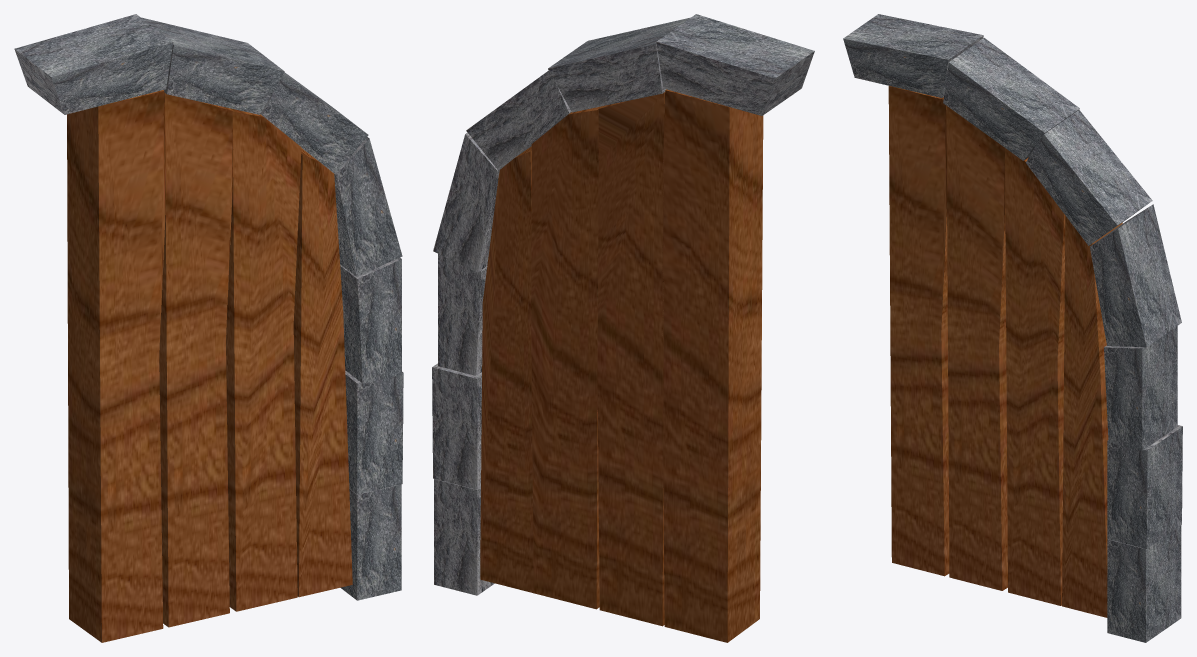
File: RightDoor.obj
3 renders of one model, left to right at view 1: azimuth 30°, elevation 25°; view 2: azimuth 150°, elevation 25°; view 3: azimuth 330°, elevation 25°, orthographic. The views are drawn at different scales.
Visible parts, largest first — view 1: CenterBoard.001_立方体.023, MidleBoards.001_立方体.012, MidleBoard.001_立方体.013, LeftBoard.001_立方体.022, LeftUnderBlockssssss.001_立方体.015, LeftUnderBlocksssss.001_立方体.016, LeftUnderBlockss.001_立方体.019, LeftUnderBlock.001_立方体.021, LeftUnderBlocksss.001_立方体.018, LeftUnderBlocks.001_立方体.020, LeftUnderBlockssss.001_立方体.017; view 2: CenterBoard.001_立方体.023, MidleBoards.001_立方体.012, MidleBoard.001_立方体.013, LeftBoard.001_立方体.022, LeftUnderBlockssssss.001_立方体.015, LeftUnderBlocksssss.001_立方体.016, LeftUnderBlocksss.001_立方体.018, LeftUnderBlock.001_立方体.021, LeftUnderBlocks.001_立方体.020, LeftUnderBlockssss.001_立方体.017, LeftUnderBlockss.001_立方体.019; view 3: CenterBoard.001_立方体.023, MidleBoards.001_立方体.012, MidleBoard.001_立方体.013, LeftBoard.001_立方体.022, LeftUnderBlocksss.001_立方体.018, LeftUnderBlocksssss.001_立方体.016, LeftUnderBlockssss.001_立方体.017, LeftUnderBlock.001_立方体.021, LeftUnderBlockss.001_立方体.019, LeftUnderBlockssssss.001_立方体.015, LeftUnderBlocks.001_立方体.020.
Part boxes in pixels (bbox=[...]): CenterBoard.001_立方体.023: bbox=[67, 90, 166, 642]; MidleBoards.001_立方体.012: bbox=[159, 93, 233, 627]; MidleBoard.001_立方体.013: bbox=[226, 108, 301, 611]; LeftBoard.001_立方体.022: bbox=[293, 148, 352, 597]; LeftUnderBlockssssss.001_立方体.015: bbox=[14, 14, 173, 114]; LeftUnderBlocksssss.001_立方体.016: bbox=[141, 17, 284, 114]; LeftUnderBlockss.001_立方体.019: bbox=[340, 257, 401, 383]; LeftUnderBlock.001_立方体.021: bbox=[345, 370, 403, 494]; LeftUnderBlocksss.001_立方体.018: bbox=[334, 137, 402, 276]; LeftUnderBlocks.001_立方体.020: bbox=[340, 484, 401, 600]; LeftUnderBlockssss.001_立方体.017: bbox=[260, 72, 368, 174]; CenterBoard.001_立方体.023: bbox=[662, 89, 763, 642]; MidleBoards.001_立方体.012: bbox=[597, 92, 665, 626]; MidleBoard.001_立方体.013: bbox=[531, 106, 601, 609]; LeftBoard.001_立方体.022: bbox=[480, 146, 533, 593]; LeftUnderBlockssssss.001_立方体.015: bbox=[656, 14, 814, 115]; LeftUnderBlocksssss.001_立方体.016: bbox=[548, 17, 690, 112]; LeftUnderBlocksss.001_立方体.018: bbox=[433, 132, 499, 272]; LeftUnderBlock.001_立方体.021: bbox=[432, 363, 481, 489]; LeftUnderBlocks.001_立方体.020: bbox=[434, 479, 494, 595]; LeftUnderBlockssss.001_立方体.017: bbox=[466, 70, 571, 170]; LeftUnderBlockss.001_立方体.019: bbox=[438, 253, 487, 375]; CenterBoard.001_立方体.023: bbox=[888, 86, 949, 576]; MidleBoards.001_立方体.012: bbox=[946, 106, 1007, 590]; MidleBoard.001_立方体.013: bbox=[1005, 148, 1065, 605]; LeftBoard.001_立方体.022: bbox=[1062, 216, 1122, 617]; LeftUnderBlocksss.001_立方体.018: bbox=[1090, 204, 1181, 347]; LeftUnderBlocksssss.001_立方体.016: bbox=[943, 38, 1079, 160]; LeftUnderBlockssss.001_立方体.017: bbox=[1026, 110, 1152, 245]; LeftUnderBlock.001_立方体.021: bbox=[1107, 425, 1182, 548]; LeftUnderBlockss.001_立方体.019: bbox=[1104, 326, 1177, 450]; LeftUnderBlockssssss.001_立方体.015: bbox=[843, 14, 983, 97]; LeftUnderBlocks.001_立方体.020: bbox=[1107, 525, 1181, 642].
Size of the model in its own units: 2.22 by 3.65 by 0.4941.
Materials: 2 (2 with a texture image).
